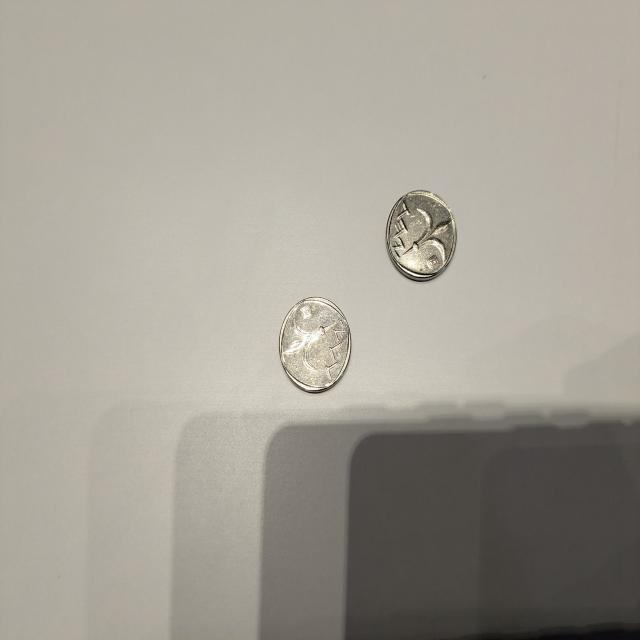1-shekel: (277, 290, 355, 398), (381, 185, 457, 286)
